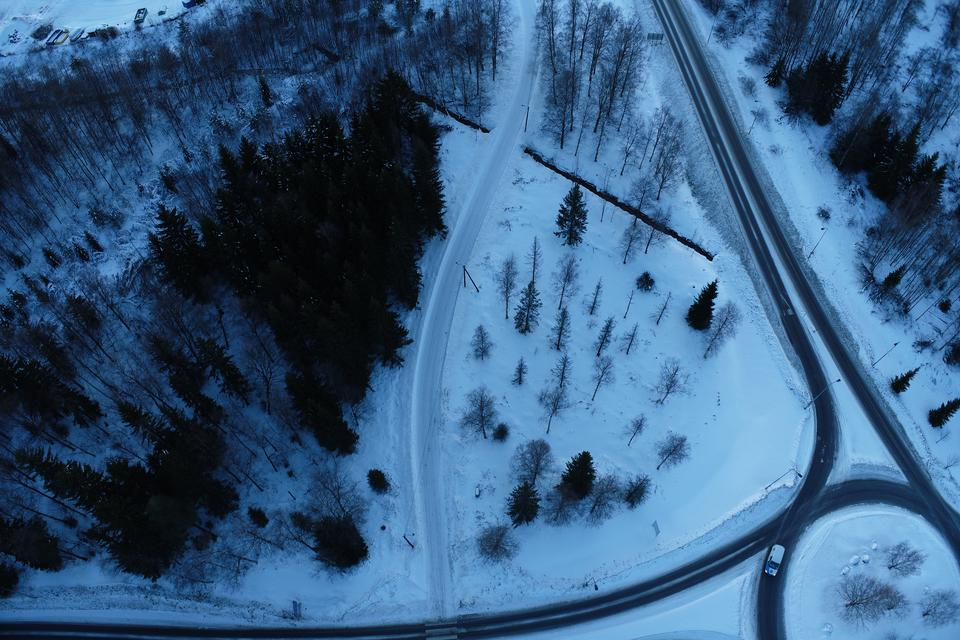intersection: (414, 606, 471, 640)
roundabout: (742, 444, 960, 640)
